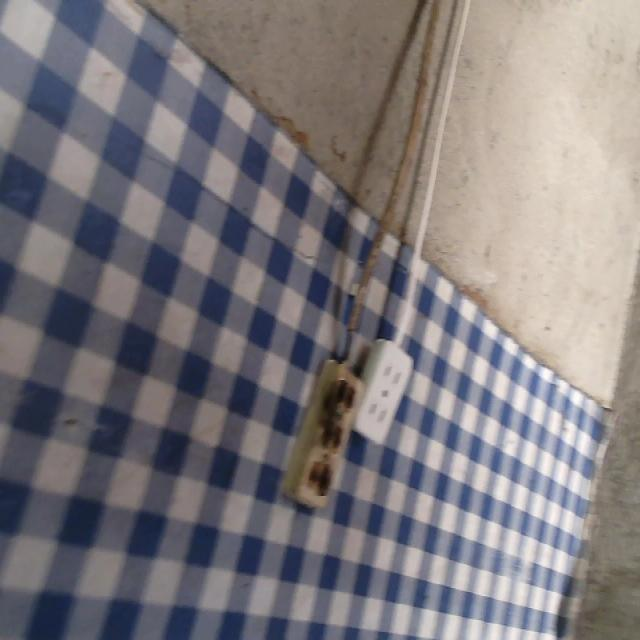-: (328, 375, 358, 416), (318, 418, 342, 453), (309, 458, 330, 494)
